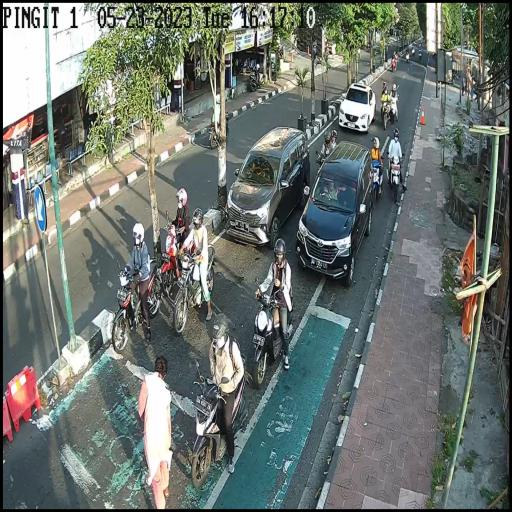mobil: (298, 120, 368, 290), (224, 124, 310, 244), (339, 77, 375, 135)
motor: (187, 354, 252, 479), (251, 271, 294, 391), (110, 257, 159, 346), (172, 248, 218, 330), (161, 207, 183, 296), (388, 150, 404, 198), (371, 155, 386, 202), (390, 95, 402, 127), (380, 97, 391, 130)
